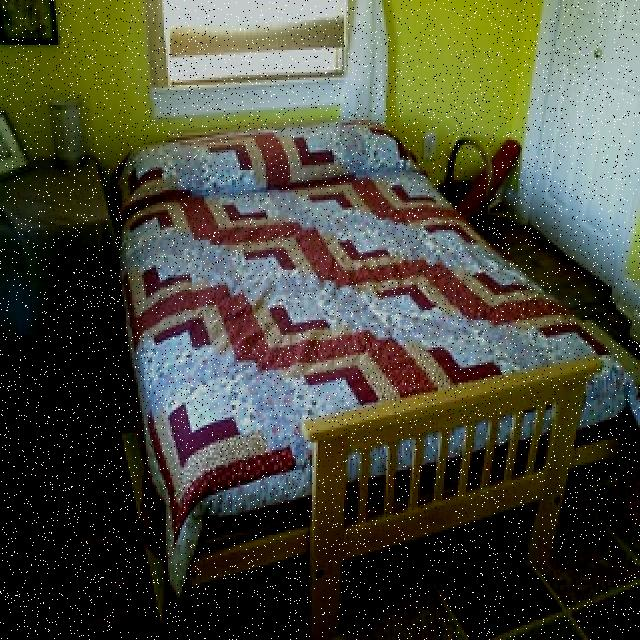bed: (107, 138, 625, 603)
